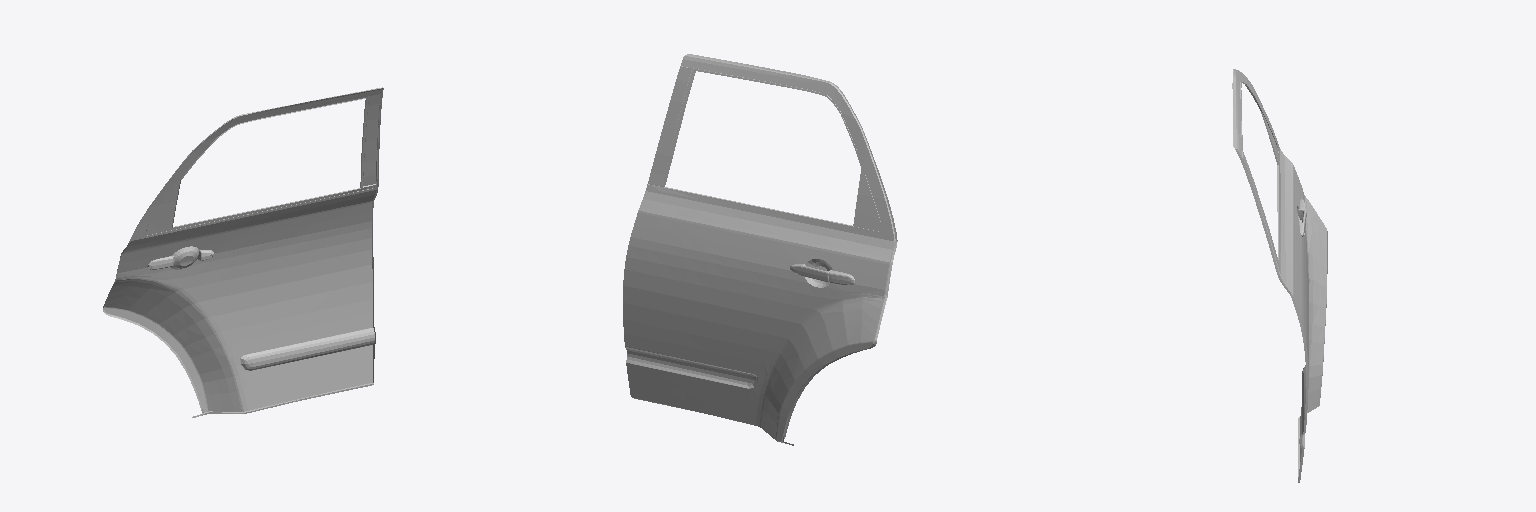
3 renders of one model, left to right at view 1: azimuth 30°, elevation 25°; view 2: azimuth 150°, elevation 25°; view 3: azimuth 270°, elevation 25°, orthographic.
Parts seen in each view (by area): view 1: P712_301B_L_P712_301B_L_3_DaS, P712_301B_L_1_D_P712_301B_L, P712_301B_L_P712_301B_L_3_DaS_E, P712_301B_L_P712_301B_L_3_D; view 2: P712_301B_L_P712_301B_L_3_DaS, P712_301B_L_1_D_P712_301B_L, P712_301B_L_P712_301B_L_3_D, P712_301B_L_P712_301B_L_3_DaS_E; view 3: P712_301B_L_P712_301B_L_3_DaS, P712_301B_L_1_D_P712_301B_L, P712_301B_L_P712_301B_L_3_DaS_E.
Part boxes in pixels (x1,y1,x2,y2): P712_301B_L_P712_301B_L_3_DaS: (104,88,382,412); P712_301B_L_1_D_P712_301B_L: (144,94,380,269); P712_301B_L_P712_301B_L_3_DaS_E: (103,87,383,413); P712_301B_L_P712_301B_L_3_D: (103,88,381,417); P712_301B_L_P712_301B_L_3_DaS: (623,56,893,441); P712_301B_L_1_D_P712_301B_L: (647,66,880,285); P712_301B_L_P712_301B_L_3_D: (634,54,897,445); P712_301B_L_P712_301B_L_3_DaS_E: (685,55,895,440); P712_301B_L_P712_301B_L_3_DaS: (1236,70,1327,461); P712_301B_L_1_D_P712_301B_L: (1240,80,1306,275); P712_301B_L_P712_301B_L_3_DaS_E: (1234,70,1308,482).
Bounding box in the file's own units: 127 × 154 × 39.79.